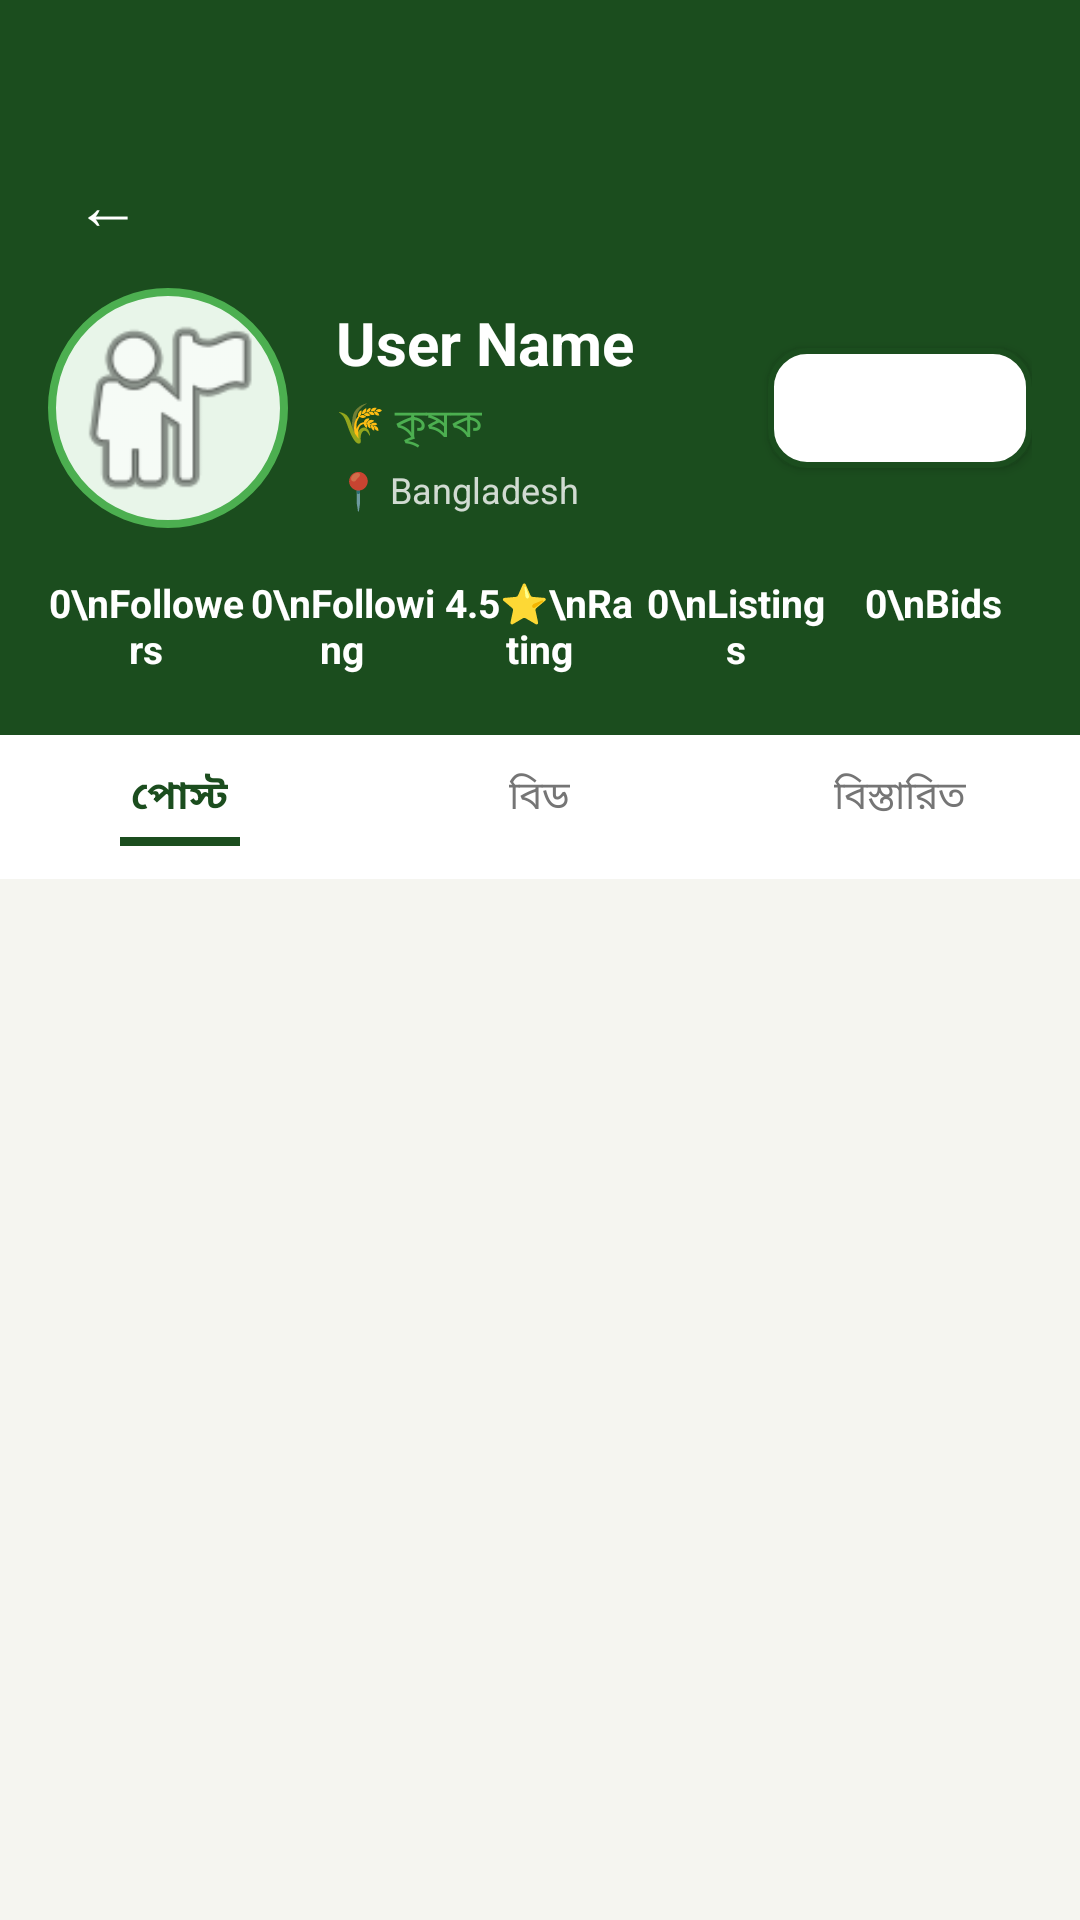

Icon click points for this 1080px×1920px phone screenshot, format [x,y]:
avatar: [168,408]
